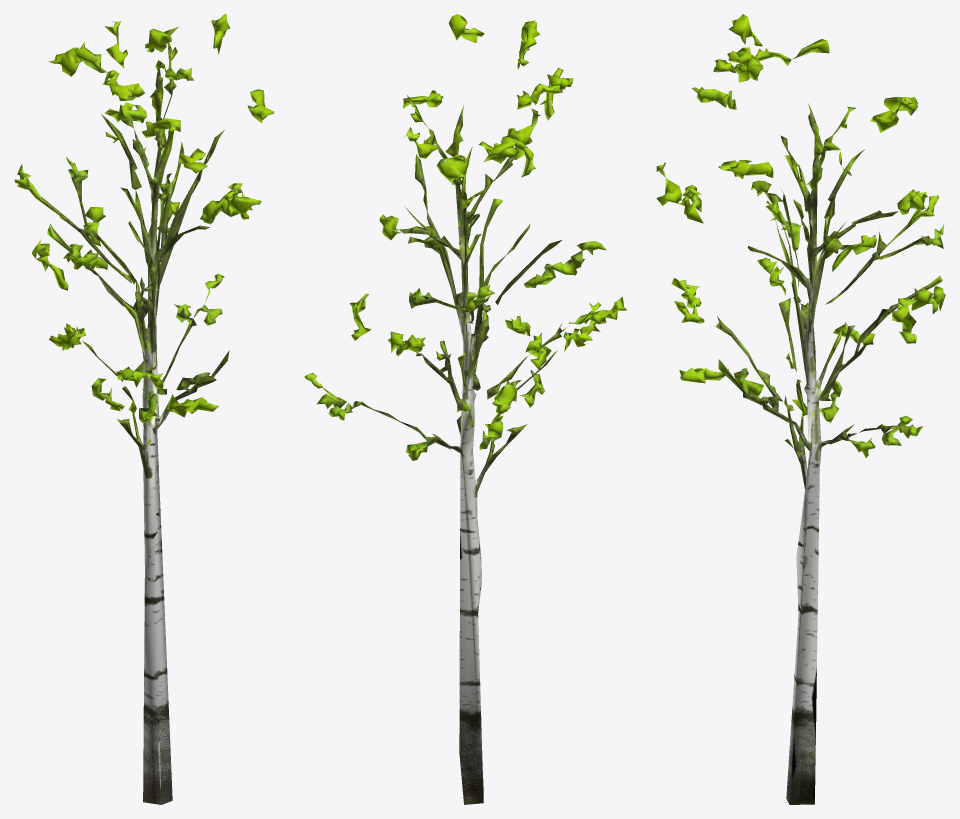
File: tree_birch.glb
3 views of the same model, side by side, from view 1: azimuth 30°, elevation 25°; view 2: azimuth 150°, elevation 25°; view 3: azimuth 270°, elevation 25° (orthographic). The views are drawn at different scales.
Parts seen in each view (by area): view 1: Mesh1.0; view 2: Mesh1.0; view 3: Mesh1.0.
Part boxes in pixels (<box>): Mesh1.0: <box>14,14,274,804</box>; Mesh1.0: <box>304,14,626,804</box>; Mesh1.0: <box>656,14,945,804</box>.
Size of the model in its own units: 0.58 by 1.87 by 0.636.
1 material, 1 textured.
